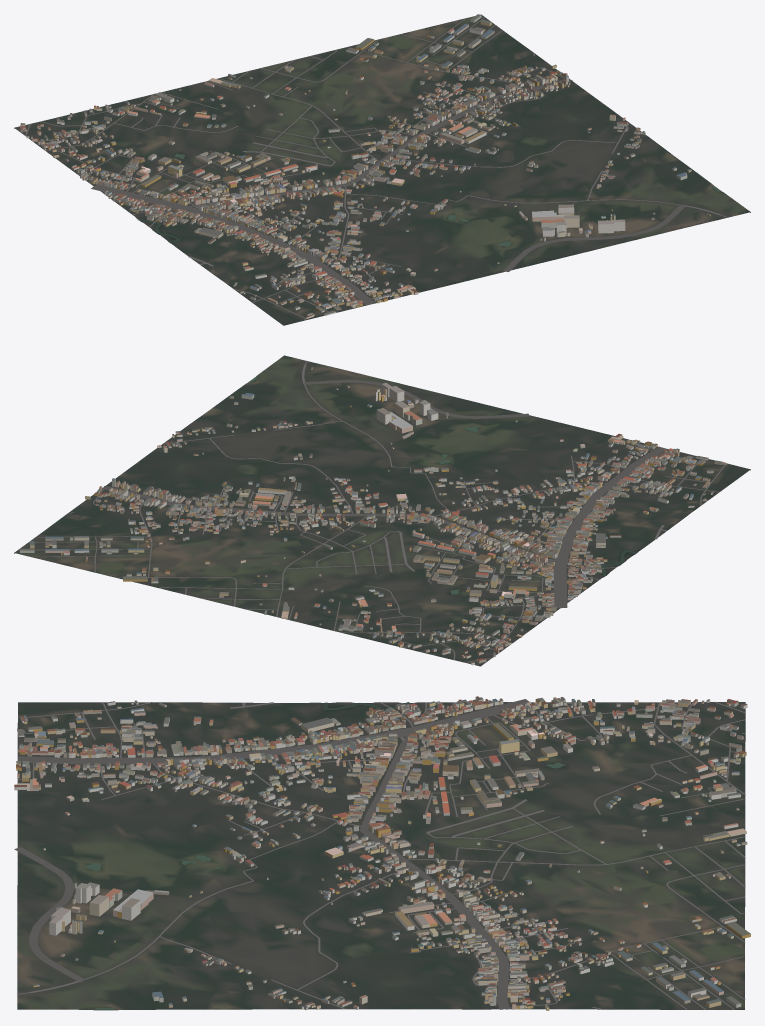
The picture shows the model from 3 angles, top to bottom: view 1: azimuth 30°, elevation 25°; view 2: azimuth 150°, elevation 25°; view 3: azimuth 270°, elevation 25°; orthographic projection. The views are drawn at different scales.
Visible parts, largest first — view 1: ground, buildings, roads; view 2: ground, buildings, roads; view 3: ground, buildings, roads, water.
Part boxes in pixels (box(x1,y1,x2,y2)): ground: box(14, 14, 750, 325); buildings: box(20, 14, 710, 318); roads: box(23, 17, 727, 320); ground: box(14, 355, 750, 666); buildings: box(20, 367, 725, 665); roads: box(18, 361, 728, 662); ground: box(17, 702, 745, 1010); buildings: box(14, 696, 750, 1010); roads: box(14, 699, 745, 1009); water: box(86, 702, 564, 1009).
Bounding box in the file's own units: 1421 × 36.07 × 1420.
